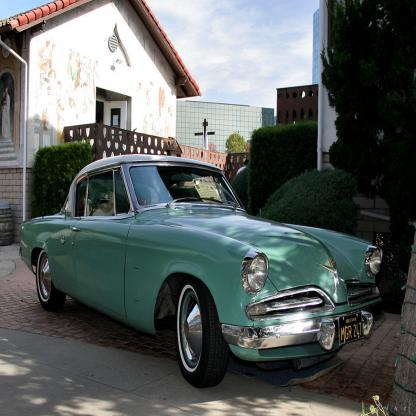Car: (19, 153, 381, 386)
